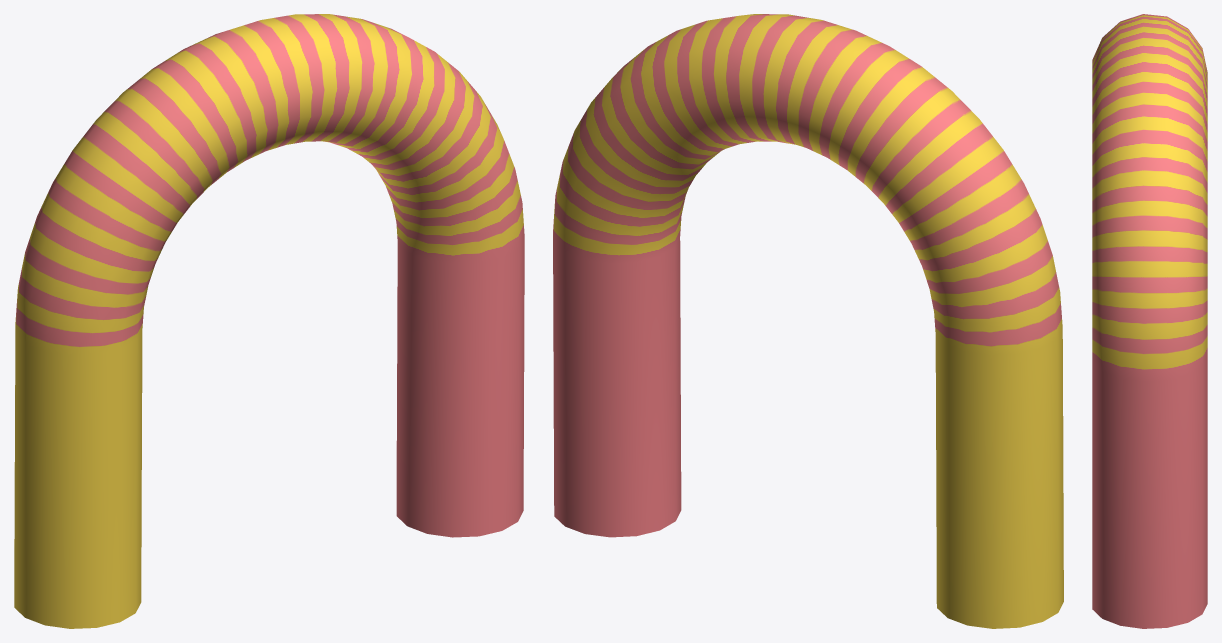
Rendered from M_arche_02.fbx.
The picture shows the model from 3 angles, left to right: view 1: azimuth 30°, elevation 25°; view 2: azimuth 150°, elevation 25°; view 3: azimuth 270°, elevation 25°; orthographic projection. The views are drawn at different scales.
Parts seen in each view (by area): view 1: Plane.005; view 2: Plane.005; view 3: Plane.005.
Boxes of the visible parts, <box> form: Plane.005: <box>14,14,524,628</box>; Plane.005: <box>553,14,1063,628</box>; Plane.005: <box>1092,14,1207,628</box>.
Size of the model in its own units: 537 by 552 by 119.
